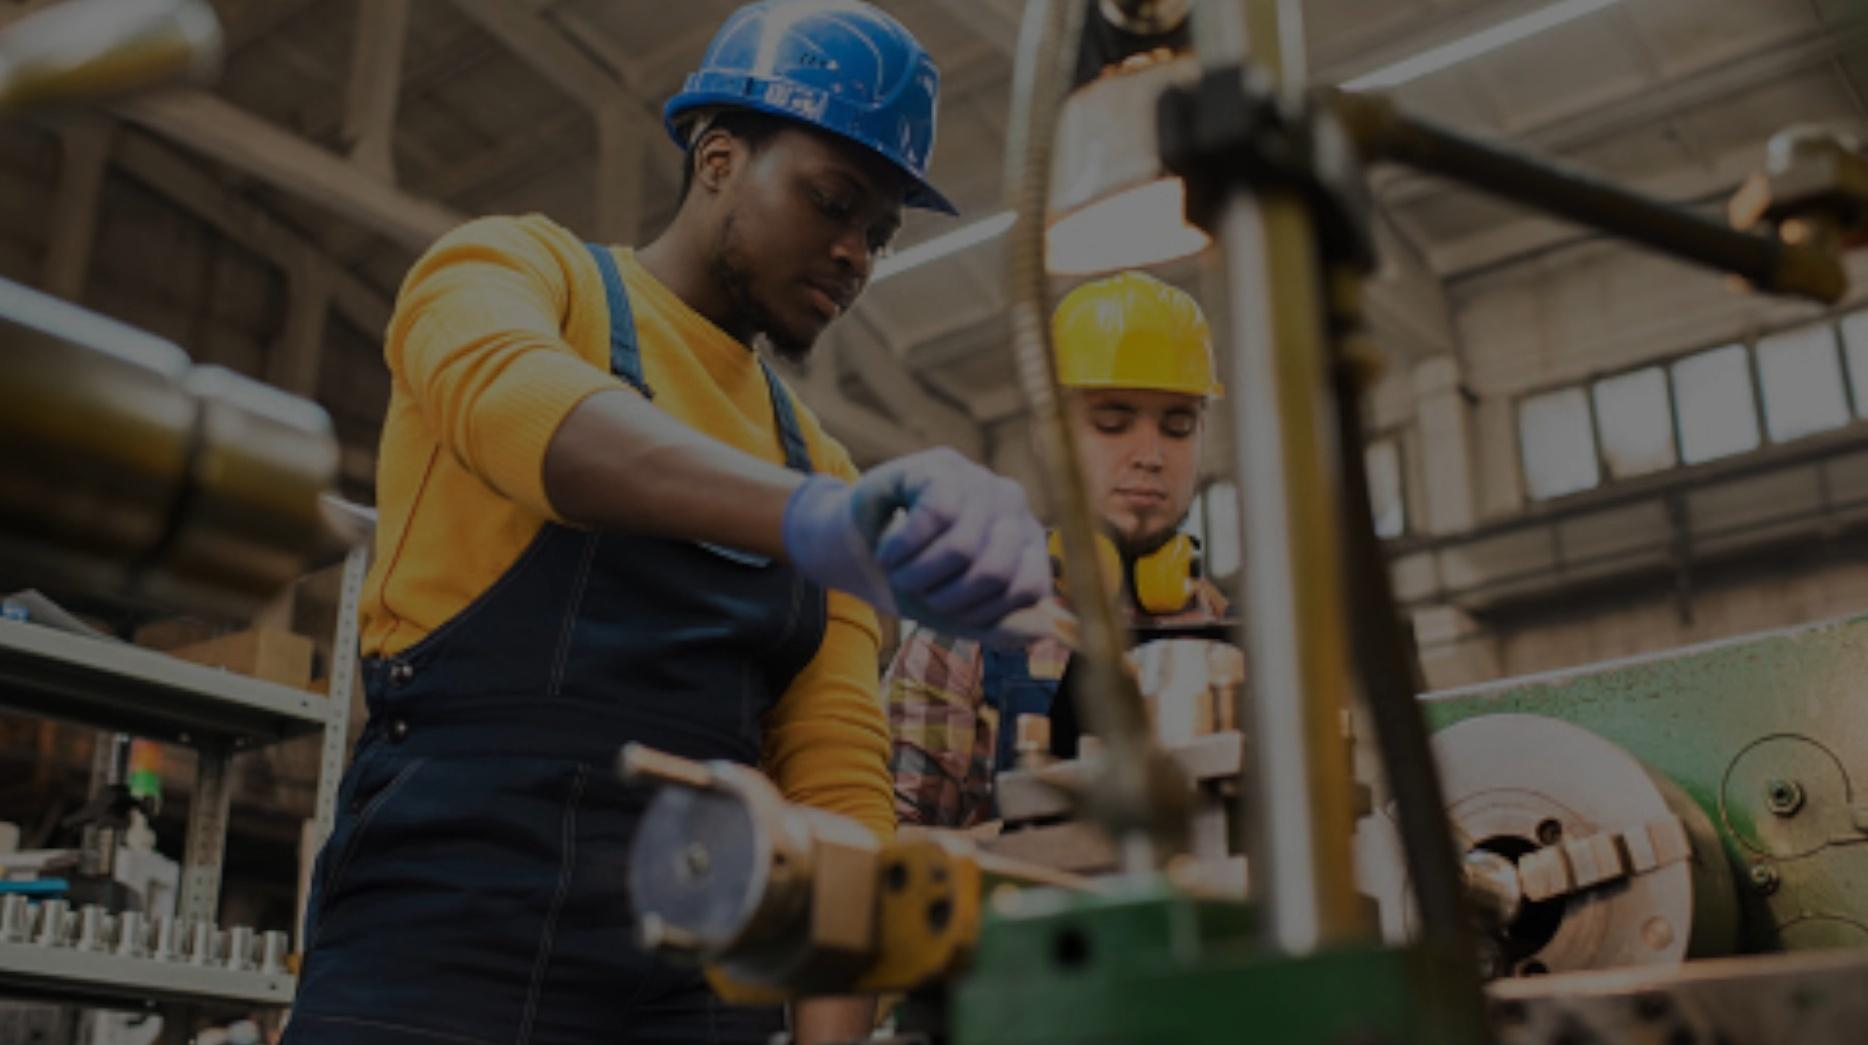helmet: (654, 1, 958, 222), (1042, 265, 1234, 409)
